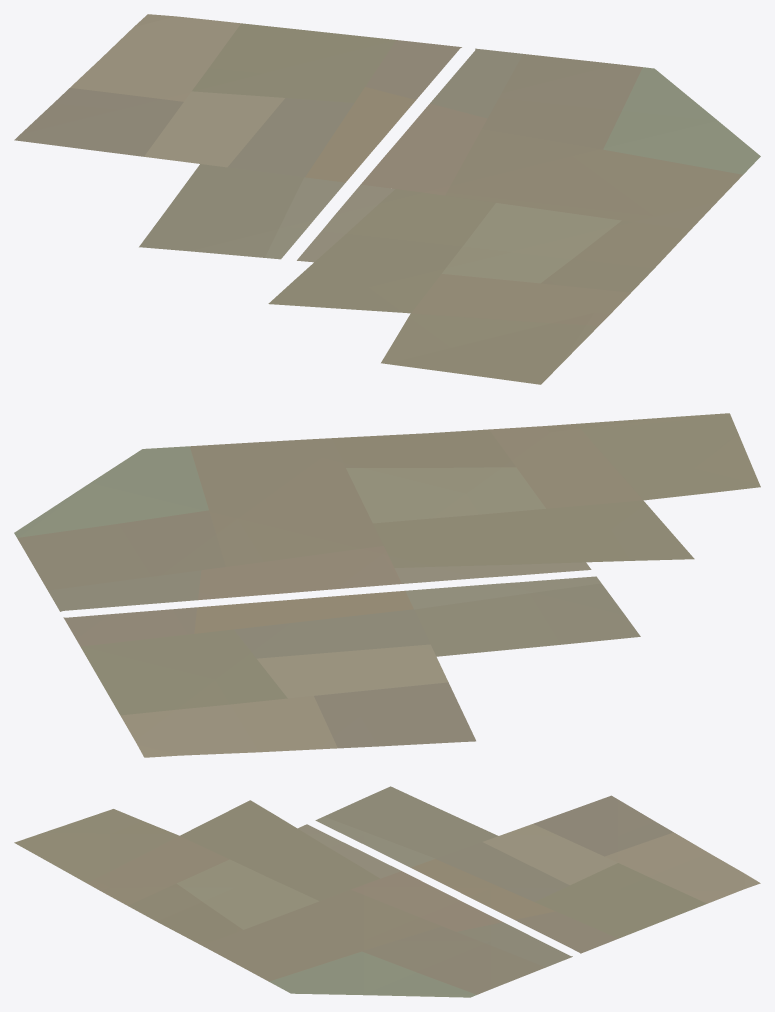
The model's file is farm_3_6_soil.glb.
3 renders of one model, top to bottom at view 1: azimuth 30°, elevation 25°; view 2: azimuth 150°, elevation 25°; view 3: azimuth 270°, elevation 25°, orthographic. The views are drawn at different scales.
Parts seen in each view (by area): view 1: geometry_0; view 2: geometry_0; view 3: geometry_0.
Boxes of the visible parts, x1=… form: geometry_0: x1=14, y1=14, x2=760, y2=384; geometry_0: x1=14, y1=413, x2=760, y2=757; geometry_0: x1=14, y1=786, x2=760, y2=997.
Size of the model in its own units: 317 by 4.04 by 471.
